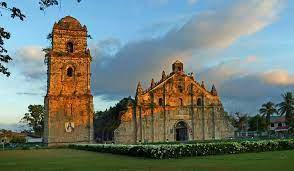paoay_church_paoay_ilocos_norte: (40, 13, 238, 144)
